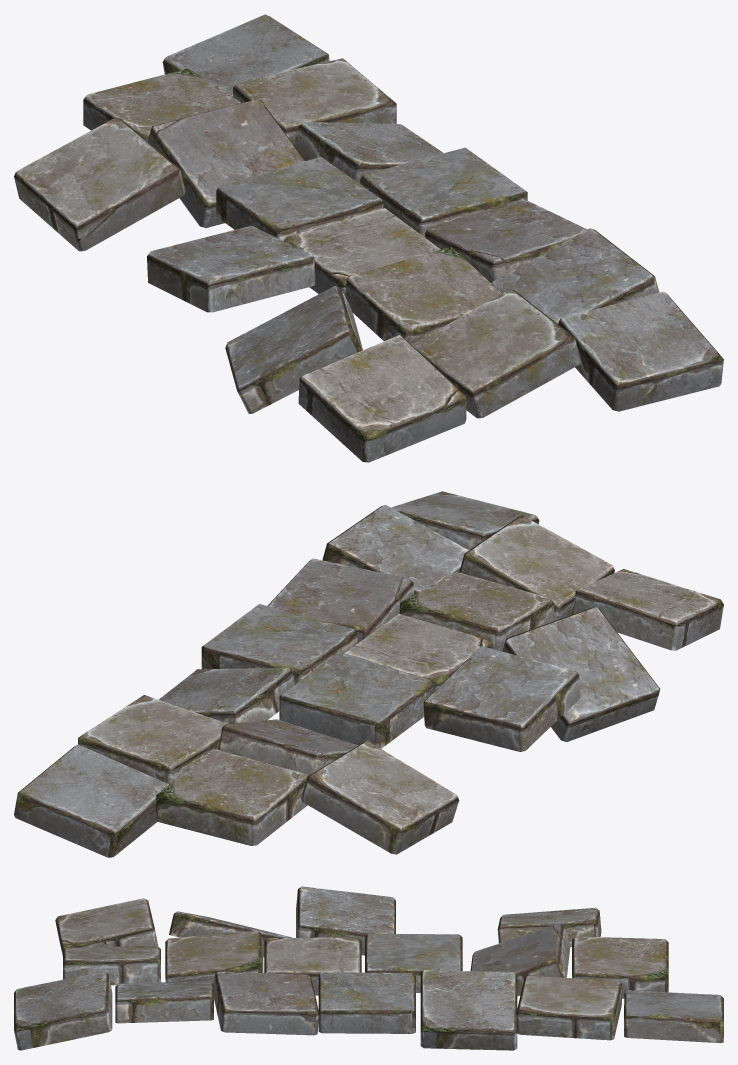
The picture shows the model from 3 angles, top to bottom: view 1: azimuth 30°, elevation 25°; view 2: azimuth 150°, elevation 25°; view 3: azimuth 270°, elevation 25°; orthographic projection. The views are drawn at different scales.
Parts seen in each view (by area): view 1: SM_Greathall_Floor_8x4_Broken_01_LOD0; view 2: SM_Greathall_Floor_8x4_Broken_01_LOD0; view 3: SM_Greathall_Floor_8x4_Broken_01_LOD0.
Boxes of the visible parts, bbox=[...] form: SM_Greathall_Floor_8x4_Broken_01_LOD0: bbox=[14, 14, 723, 462]; SM_Greathall_Floor_8x4_Broken_01_LOD0: bbox=[14, 491, 723, 857]; SM_Greathall_Floor_8x4_Broken_01_LOD0: bbox=[14, 886, 723, 1050].
Size of the model in its own units: 3.23 by 0.8836 by 6.98.
1 material, 1 textured.
